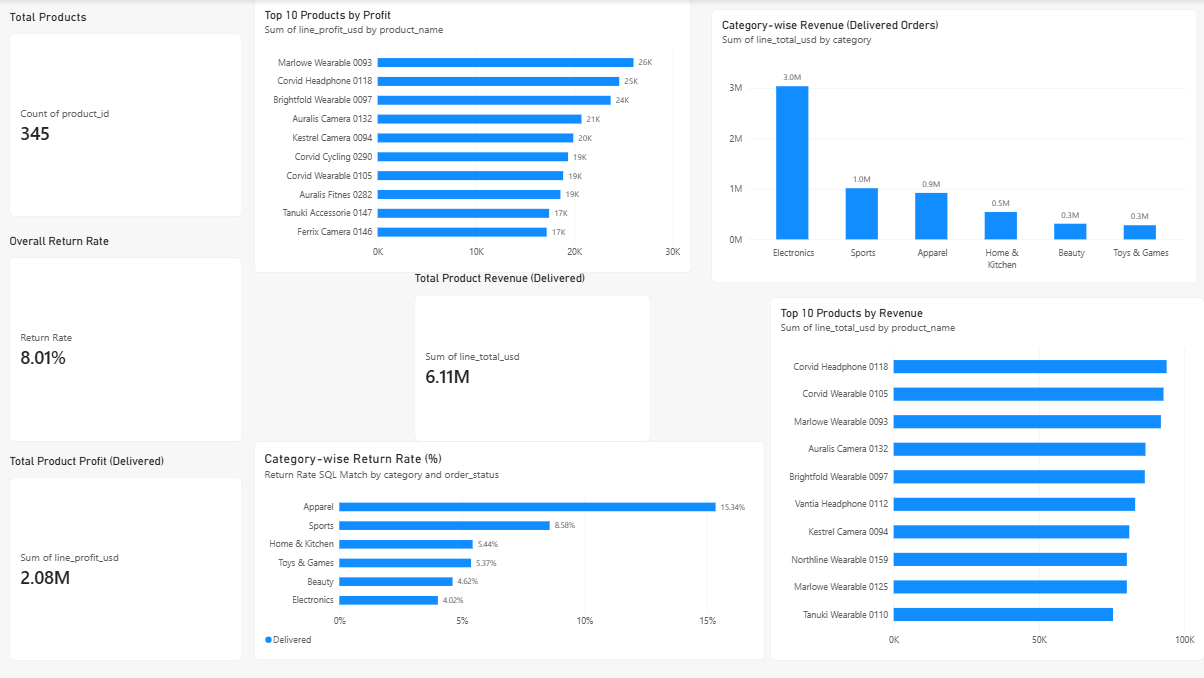

The dashboard page shown, as its layout file describes it:
{"tool":"powerbi","page":{"name":"Product & Returns Analytics","canvas":[1920,1080],"ordinal":2},"visuals":[{"type":"cardVisual","title":"Total Products","fields":{"Data":["Count(ecommerce_analytics products.product_id)"]},"box":[17.5,17.5,370,330],"z":0},{"type":"cardVisual","title":"Total Product Revenue (Delivered)","fields":{"Data":["Sum(ecommerce_analytics order_items.line_total_usd)"]},"box":[660,435,375,270],"z":1000},{"type":"cardVisual","title":"Total Product Profit (Delivered)","fields":{"Data":["Sum(ecommerce_analytics order_items.line_profit_usd)"]},"box":[17.5,725,370,327.5],"z":2000},{"type":"cardVisual","title":"Overall Return Rate","fields":{"Data":["ecommerce_analytics customers.Return Rate"]},"box":[17.5,375,370,330],"z":3000},{"type":"clusteredBarChart","title":"Top 10 Products by Revenue","fields":{"Category":["ecommerce_analytics products.product_name"],"Y":["Sum(ecommerce_analytics order_items.line_total_usd)"]},"box":[1227.5,475,692.5,577.5],"z":4000},{"type":"clusteredColumnChart","title":"Category-wise Revenue (Delivered Orders)","fields":{"Category":["ecommerce_analytics products.category"],"Y":["Sum(ecommerce_analytics order_items.line_total_usd)"]},"box":[1132.5,17.5,772.5,435],"z":5000},{"type":"clusteredBarChart","title":"Top 10 Products by Profit","fields":{"Category":["ecommerce_analytics products.product_name"],"Y":["Sum(ecommerce_analytics order_items.line_profit_usd)"]},"box":[405,0,695,435],"z":6000},{"type":"clusteredBarChart","title":"Category-wise Return Rate (%)","fields":{"Category":["ecommerce_analytics products.category"],"Series":["ecommerce_analytics orders.order_status"],"Y":["ecommerce_analytics customers.Return Rate SQL Match"]},"box":[405,705,812.5,347.5],"z":7000}]}

Visuals, with their boxes in screenshot pixels (x1, y1, x2, y2), scaled from the page's 1920x1080 canvas onto the 1204x678 screenshot:
"Total Products" cardVisual: l=11, t=11, r=243, b=218
"Total Product Revenue (Delivered)" cardVisual: l=414, t=273, r=649, b=443
"Total Product Profit (Delivered)" cardVisual: l=11, t=455, r=243, b=661
"Overall Return Rate" cardVisual: l=11, t=235, r=243, b=443
"Top 10 Products by Revenue" clusteredBarChart: l=770, t=298, r=1203, b=661
"Category-wise Revenue (Delivered Orders)" clusteredColumnChart: l=710, t=11, r=1195, b=284
"Top 10 Products by Profit" clusteredBarChart: l=254, t=0, r=690, b=273
"Category-wise Return Rate (%)" clusteredBarChart: l=254, t=443, r=763, b=661
